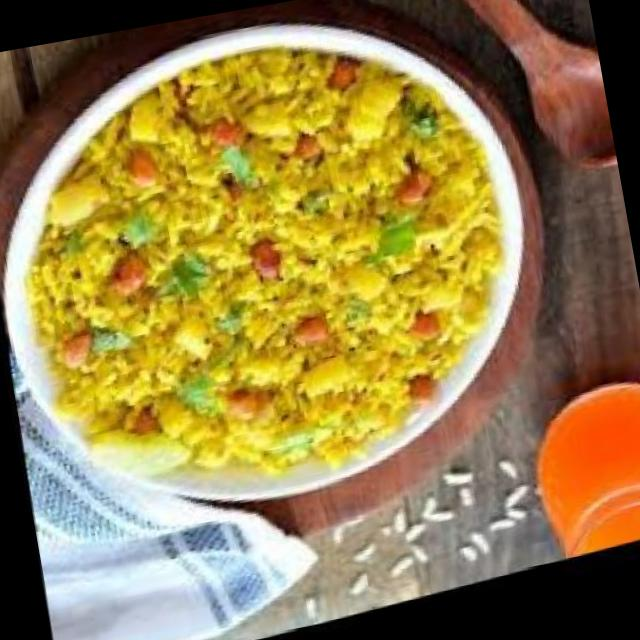poha: (0, 2, 546, 541)
